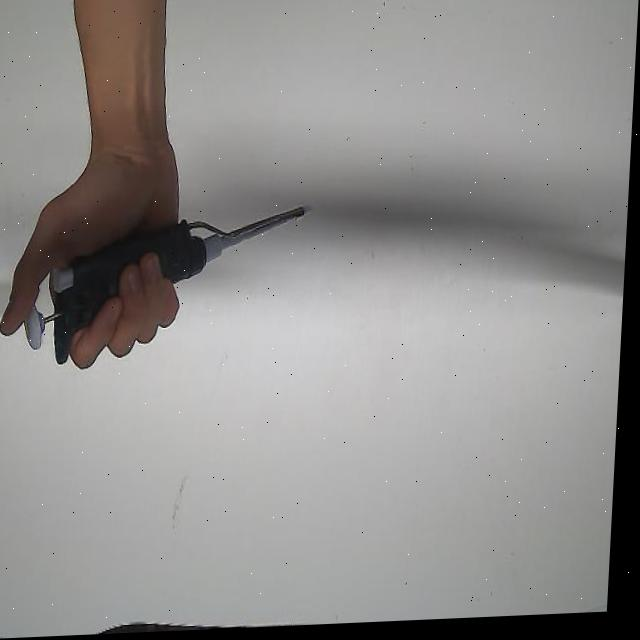Single Channel Pipettor: (26, 208, 311, 367)
